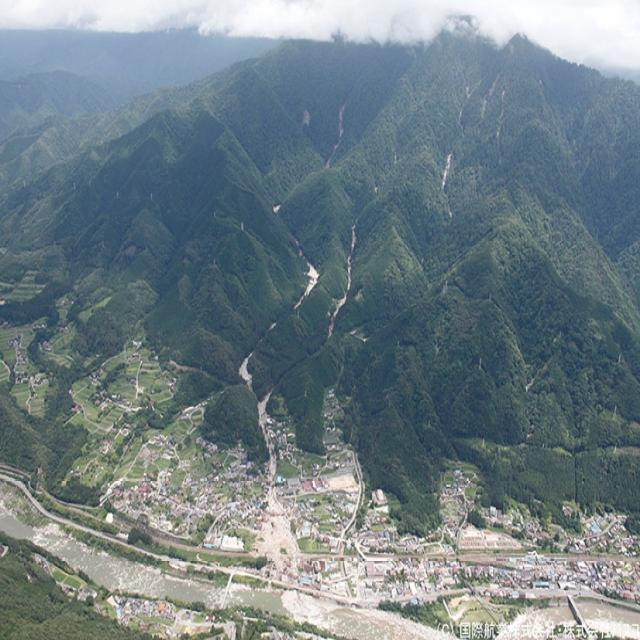Debris-flow: (328, 219, 357, 338), (296, 261, 319, 306), (239, 352, 254, 390), (260, 389, 272, 433), (268, 445, 275, 463), (266, 322, 276, 332)
